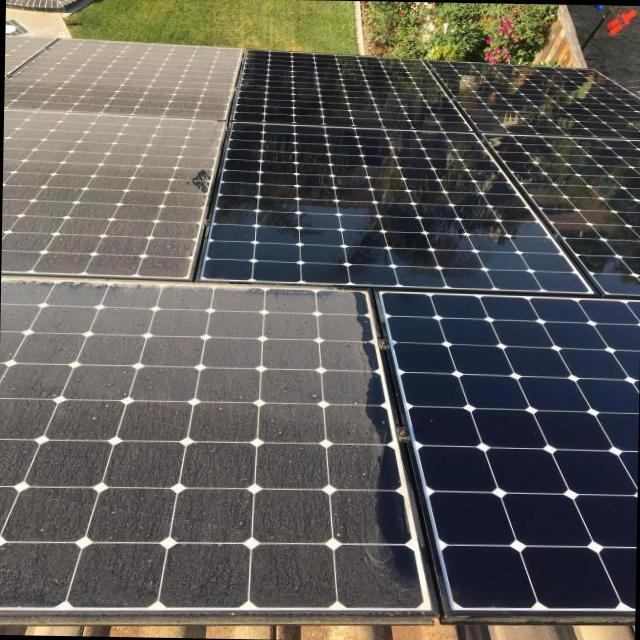faulty: (0, 280, 410, 608), (4, 110, 224, 280), (10, 37, 240, 110)
no faulty: (388, 298, 635, 604), (218, 118, 577, 287), (510, 136, 637, 292), (239, 50, 456, 133), (447, 63, 634, 130)
